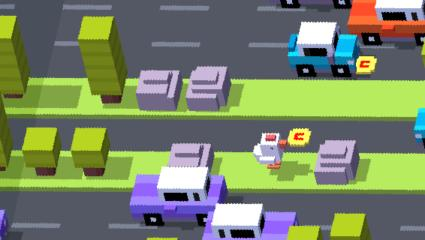hen: (253, 133, 287, 171)
obstacle: (130, 167, 228, 226), (77, 15, 127, 105), (289, 21, 362, 75), (201, 203, 299, 240), (347, 0, 425, 46), (0, 15, 30, 99), (313, 140, 360, 186), (186, 65, 231, 112), (136, 70, 183, 112), (21, 127, 60, 176), (71, 128, 110, 176), (167, 143, 215, 174), (329, 213, 371, 240), (0, 99, 13, 170), (269, 0, 355, 9), (286, 225, 323, 240), (415, 107, 425, 150), (0, 208, 7, 240)
